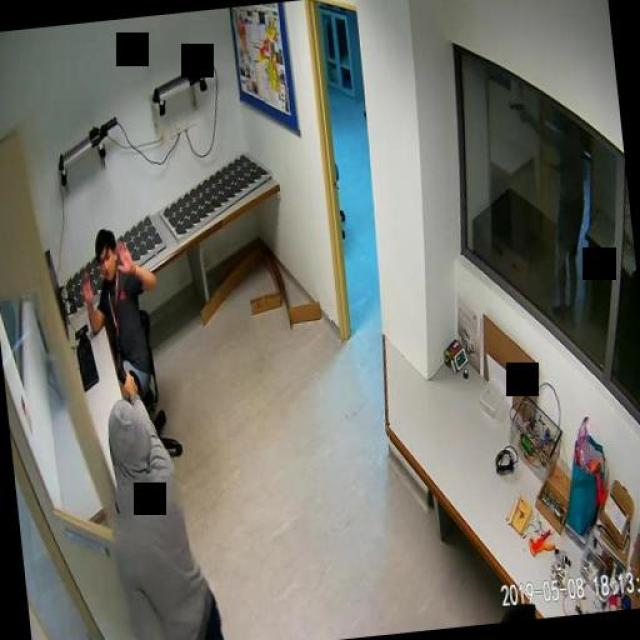gun: (112, 348, 136, 392)
